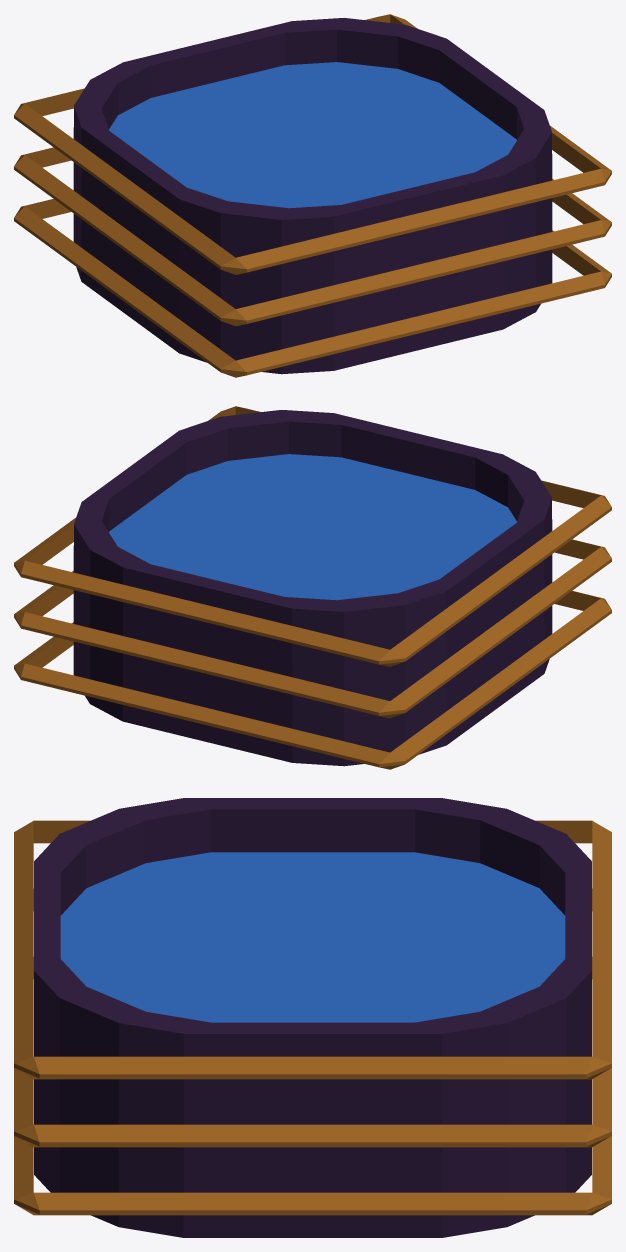
Rendered from HotTub.fbx.
3 renders of one model, top to bottom at view 1: azimuth 30°, elevation 25°; view 2: azimuth 150°, elevation 25°; view 3: azimuth 270°, elevation 25°, orthographic. The views are drawn at different scales.
Visible parts, largest first — view 1: Tub, Water, NeonLights; view 2: Tub, Water, NeonLights; view 3: Tub, Water, NeonLights.
Boxes of the visible parts, x1,y1,x2,y2 form: Tub: [73, 18, 552, 374]; Water: [109, 62, 516, 208]; NeonLights: [14, 14, 611, 377]; Tub: [73, 410, 552, 766]; Water: [109, 454, 516, 600]; NeonLights: [14, 406, 611, 769]; Tub: [34, 798, 591, 1237]; Water: [60, 852, 565, 1022]; NeonLights: [14, 820, 611, 1215].
Size of the model in its own units: 651 by 245 by 651.
